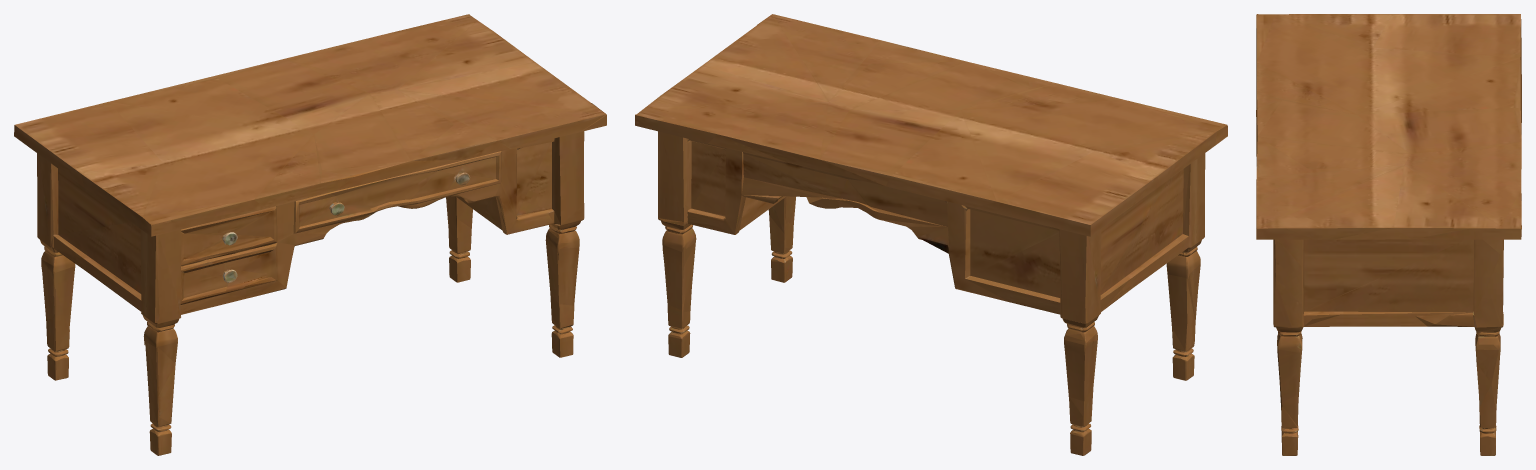
Rendered from desk.glb.
3 views of the same model, side by side, from view 1: azimuth 30°, elevation 25°; view 2: azimuth 150°, elevation 25°; view 3: azimuth 270°, elevation 25° (orthographic). The views are drawn at different scales.
Bounding box in the file's own units: 1.9 × 0.9804 × 0.9936.
Materials: 1 (1 with a texture image).
